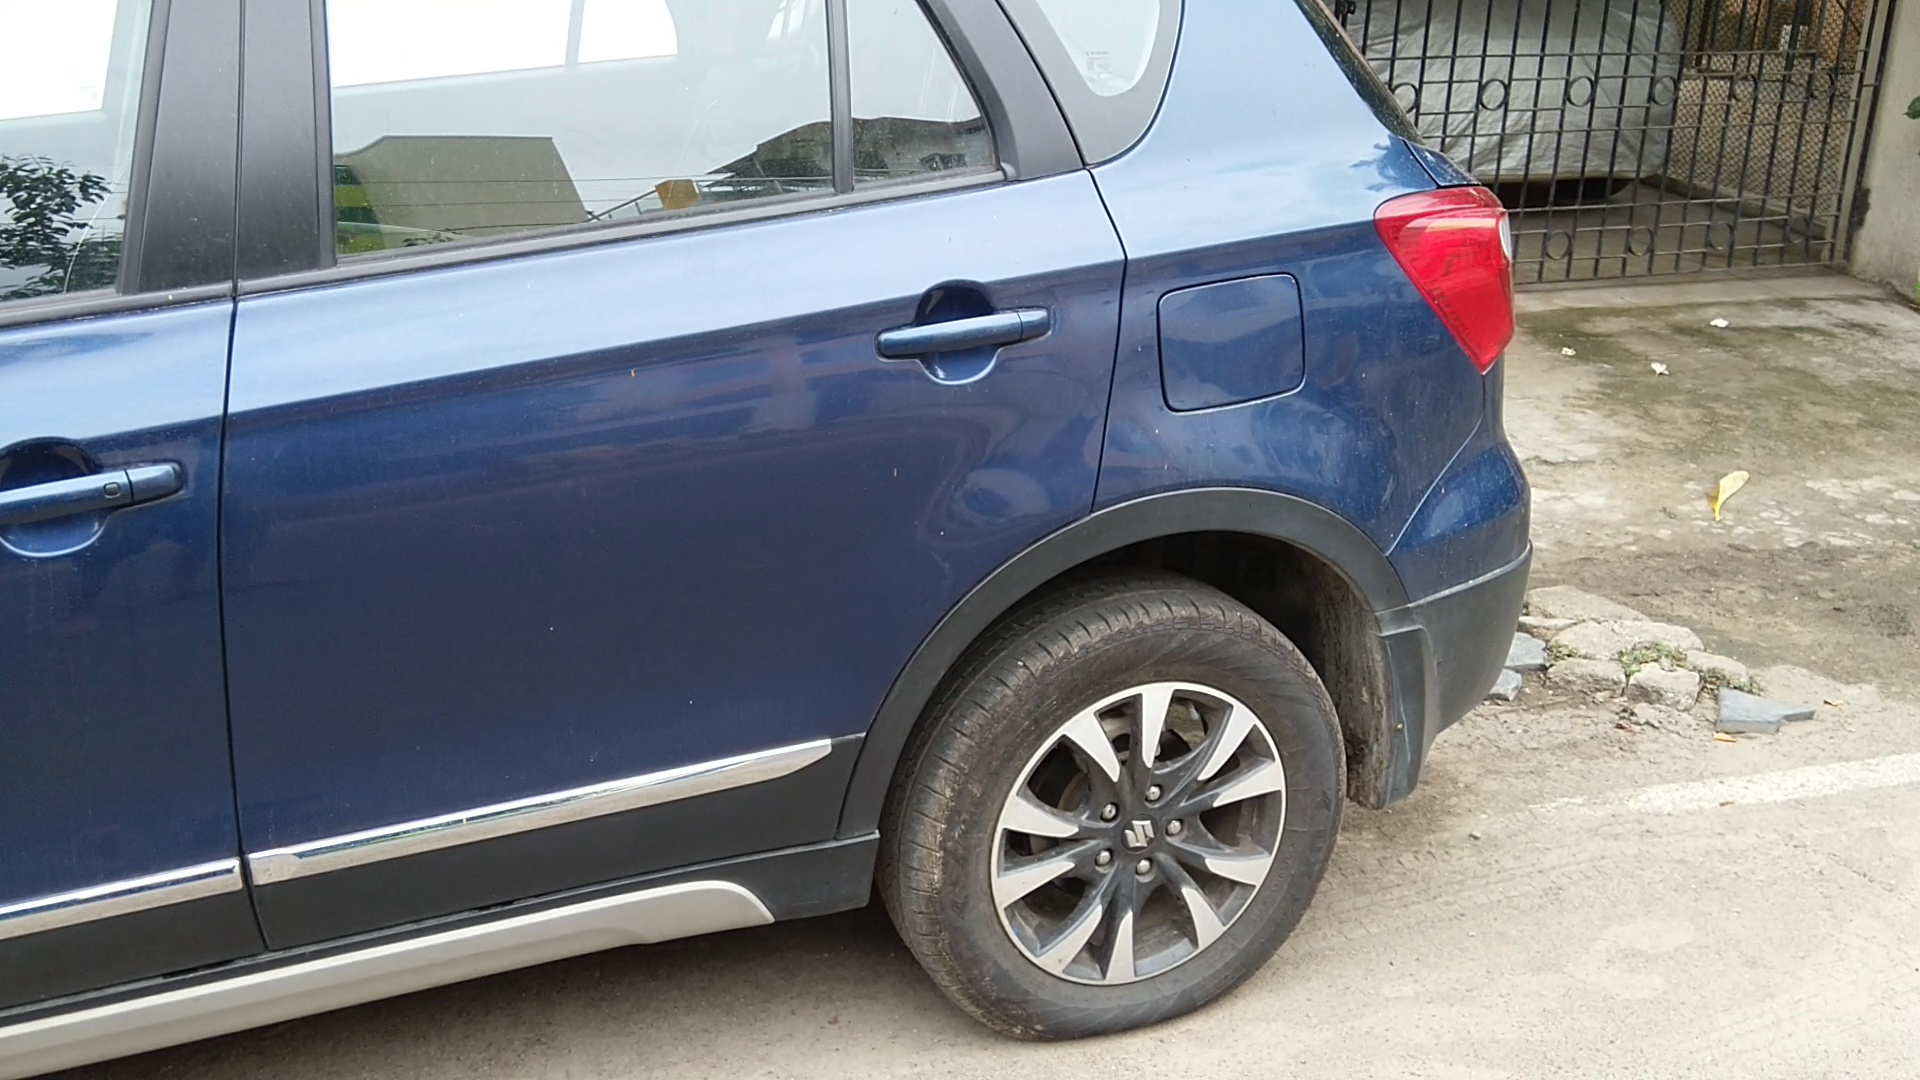alloy_wheel: (894, 589, 1356, 1055)
